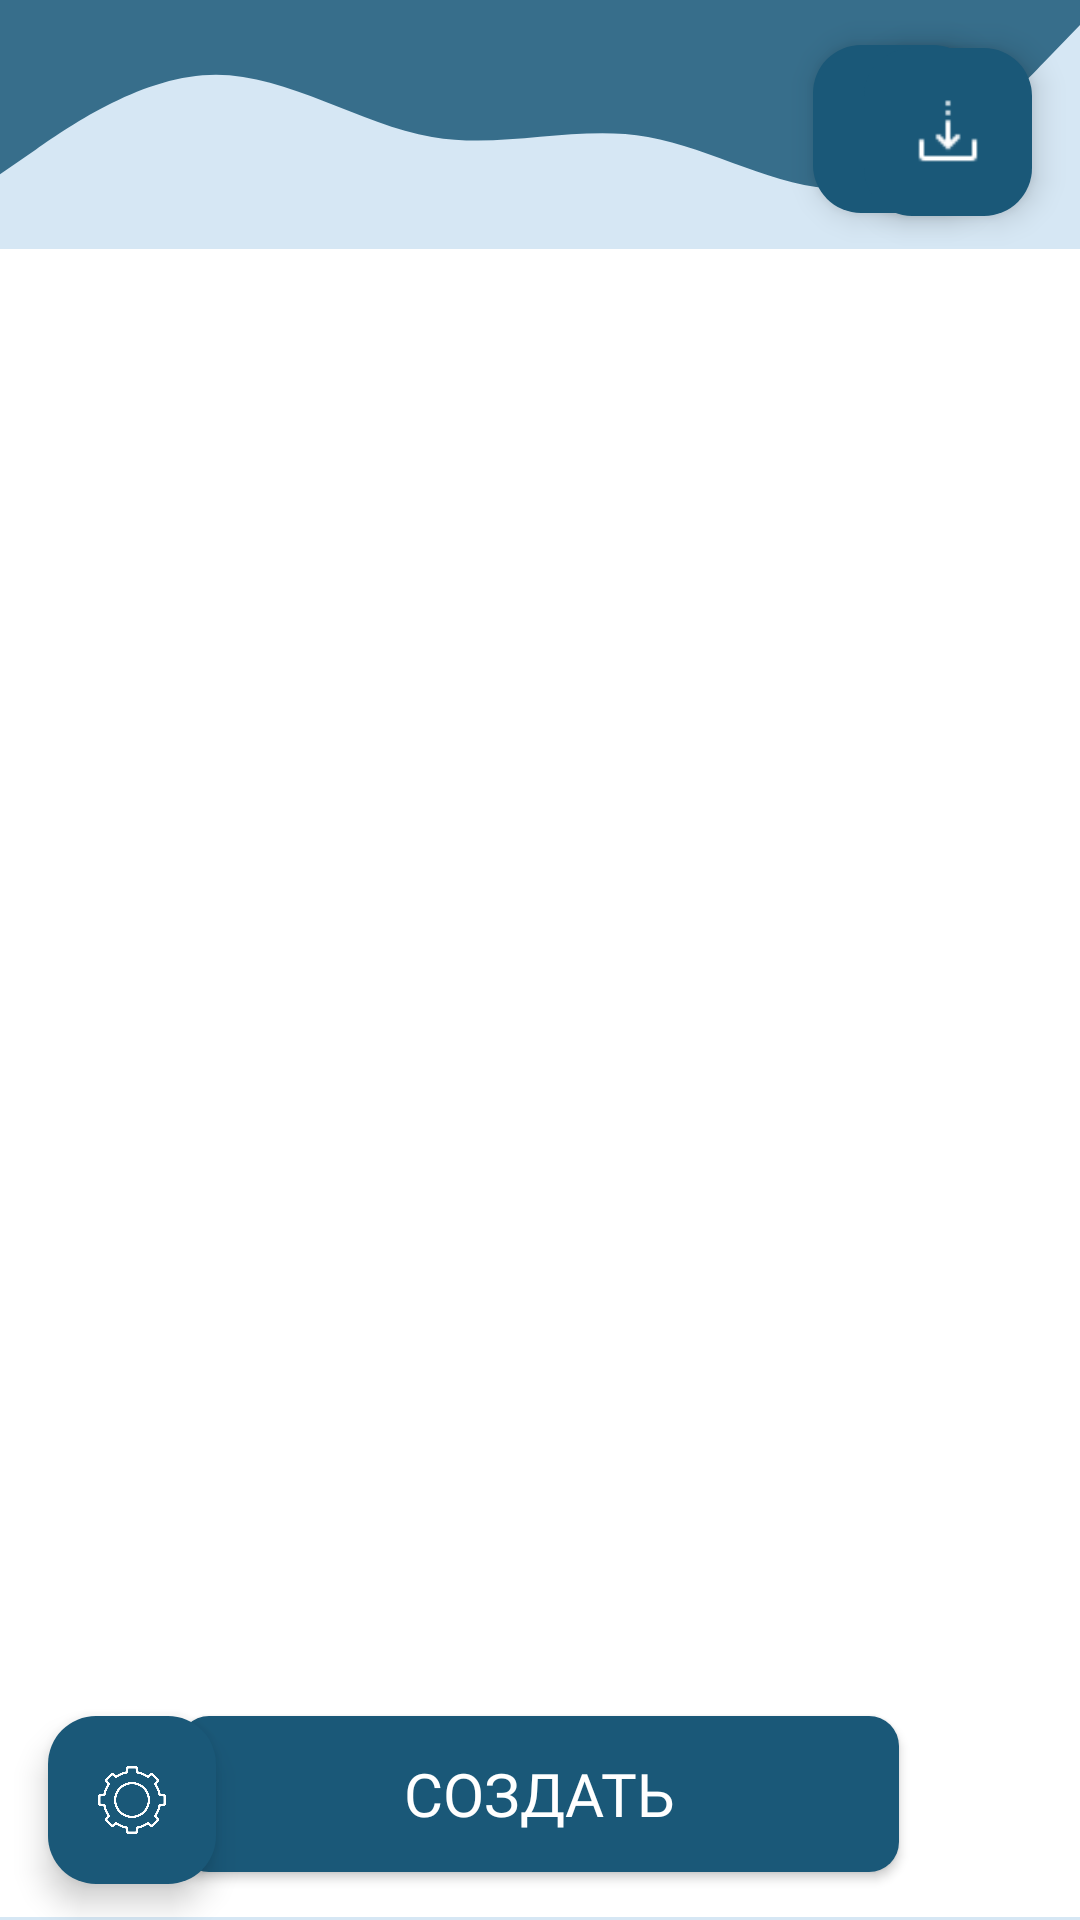

Icon click points for this 1080px×1920px phone screenshot, format (x=x, y=y):
management settings: (x=132, y=1800)
